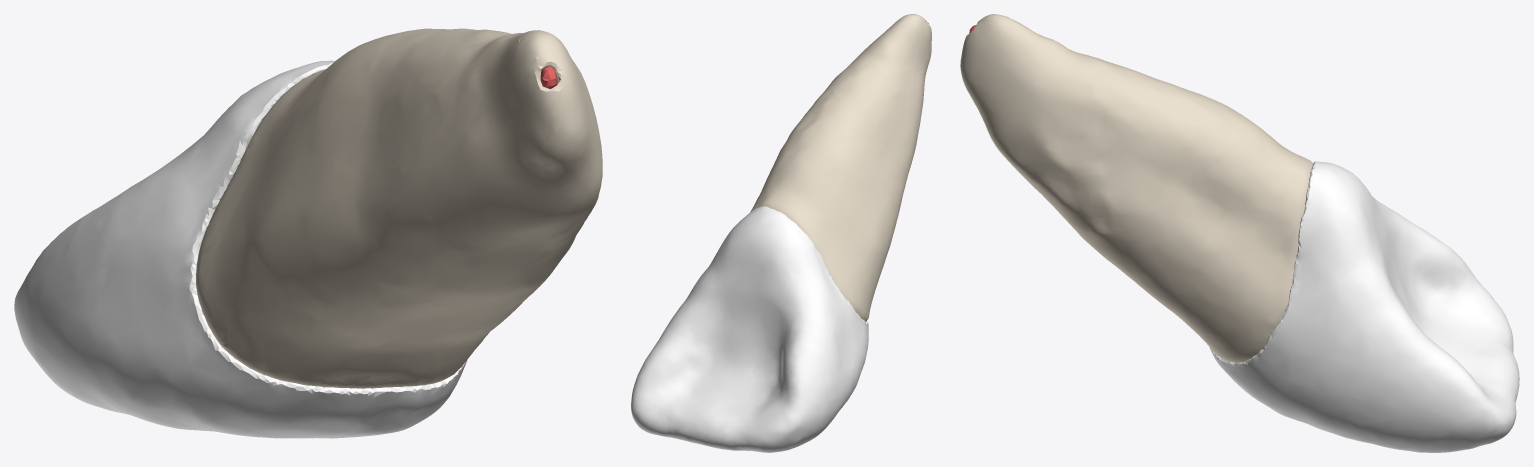
Rendered from 恒牙上颌切牙.fbx.
The picture shows the model from 3 angles, left to right: view 1: azimuth 30°, elevation 25°; view 2: azimuth 150°, elevation 25°; view 3: azimuth 270°, elevation 25°; orthographic projection. The views are drawn at different scales.
Visible parts, largest first — view 1: texture_B, texture_W; view 2: texture_W, texture_B; view 3: texture_B, texture_W.
Boxes of the visible parts, x1,y1,x2,y2 form: texture_B: [196, 28, 602, 388]; texture_W: [14, 60, 467, 438]; texture_W: [631, 206, 868, 452]; texture_B: [750, 14, 931, 321]; texture_B: [960, 14, 1312, 362]; texture_W: [1209, 161, 1519, 452].
Size of the model in its own units: 13.08 by 21.04 by 27.17.
3 materials, 3 textured.
